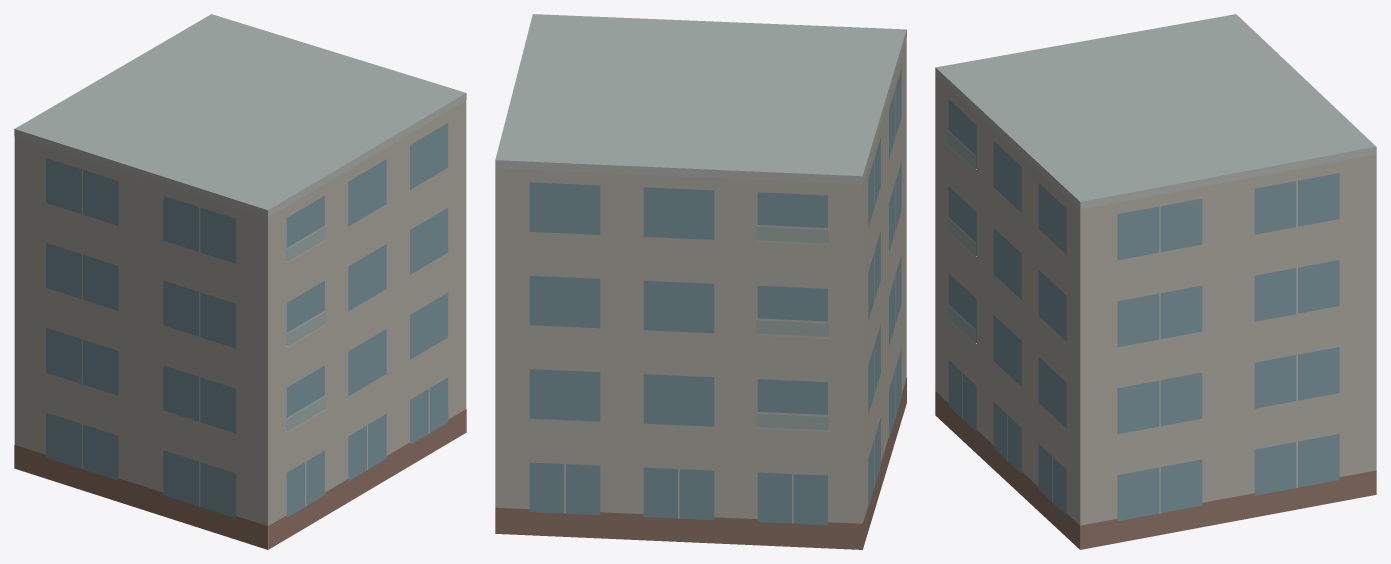
Rendered from survey-upis-32753356.glb.
The picture shows the model from 3 angles, left to right: view 1: azimuth 30°, elevation 25°; view 2: azimuth 150°, elevation 25°; view 3: azimuth 270°, elevation 25°; orthographic projection. The views are drawn at different scales.
Visible parts, largest first — view 1: survey-upis-32753356.tmp; view 2: survey-upis-32753356.tmp; view 3: survey-upis-32753356.tmp.
Boxes of the visible parts, x1,y1,x2,y2 form: survey-upis-32753356.tmp: (14,14,466,549); survey-upis-32753356.tmp: (495,14,906,549); survey-upis-32753356.tmp: (935,14,1376,549).
Size of the model in its own units: 12.98 by 11.2 by 12.88.
